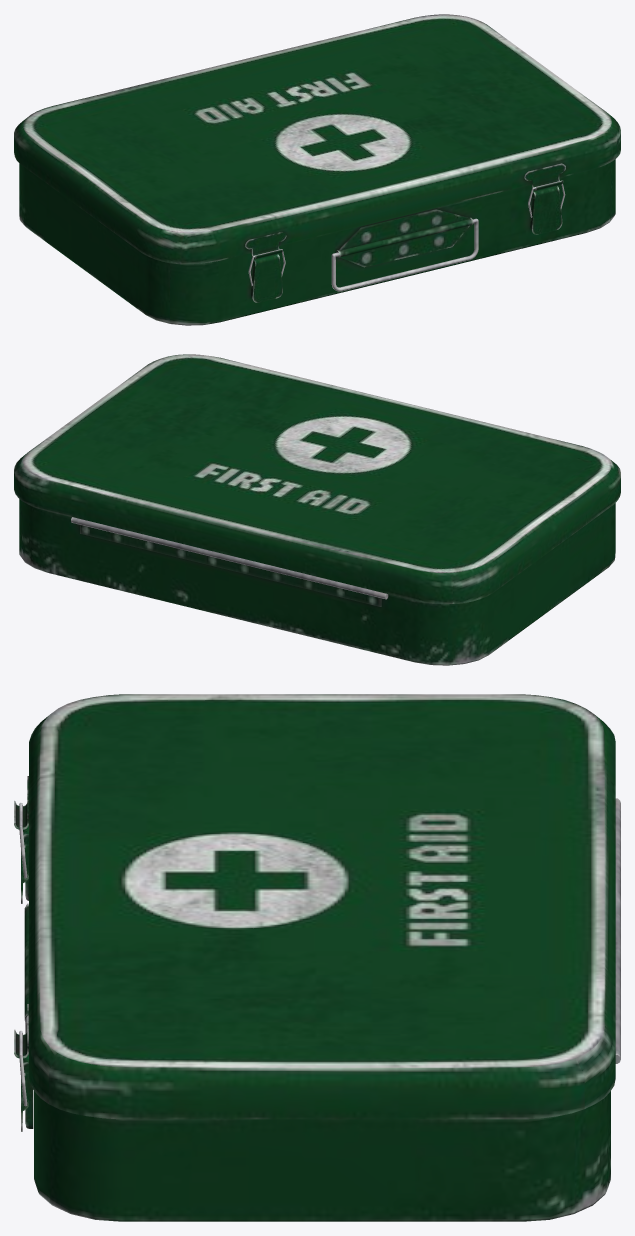
The model's file is medical_box.glb.
3 renders of one model, top to bottom at view 1: azimuth 30°, elevation 25°; view 2: azimuth 150°, elevation 25°; view 3: azimuth 270°, elevation 25°, orthographic. The views are drawn at different scales.
Visible parts, largest first — view 1: medical_box_lid, medical_box, medical_box_latch, medical_box_handle; view 2: medical_box_lid, medical_box; view 3: medical_box_lid, medical_box.
Boxes of the visible parts, x1,y1,x2,y2 form: medical_box_lid: [14, 14, 620, 264]; medical_box: [19, 159, 615, 325]; medical_box_latch: [251, 185, 562, 302]; medical_box_handle: [331, 218, 478, 291]; medical_box_lid: [14, 354, 620, 604]; medical_box: [19, 499, 615, 665]; medical_box_lid: [14, 694, 615, 1119]; medical_box: [24, 798, 620, 1221].
Size of the model in its own units: 0.5255 by 0.0976 by 0.3502.
Materials: 1 (1 with a texture image).
